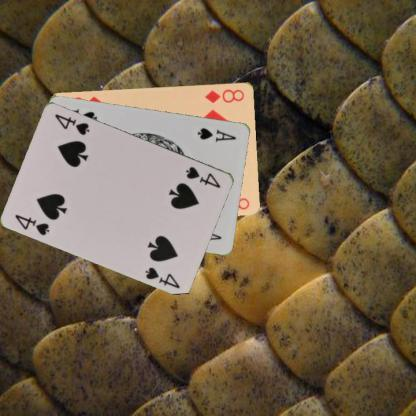4s: (184, 164, 222, 190), (13, 211, 51, 237)
8d: (202, 86, 246, 104)
As: (196, 125, 238, 143)
